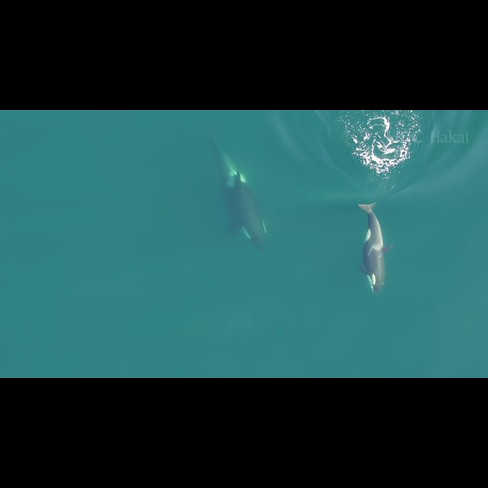orca: (195, 127, 283, 259), (353, 199, 396, 303)
